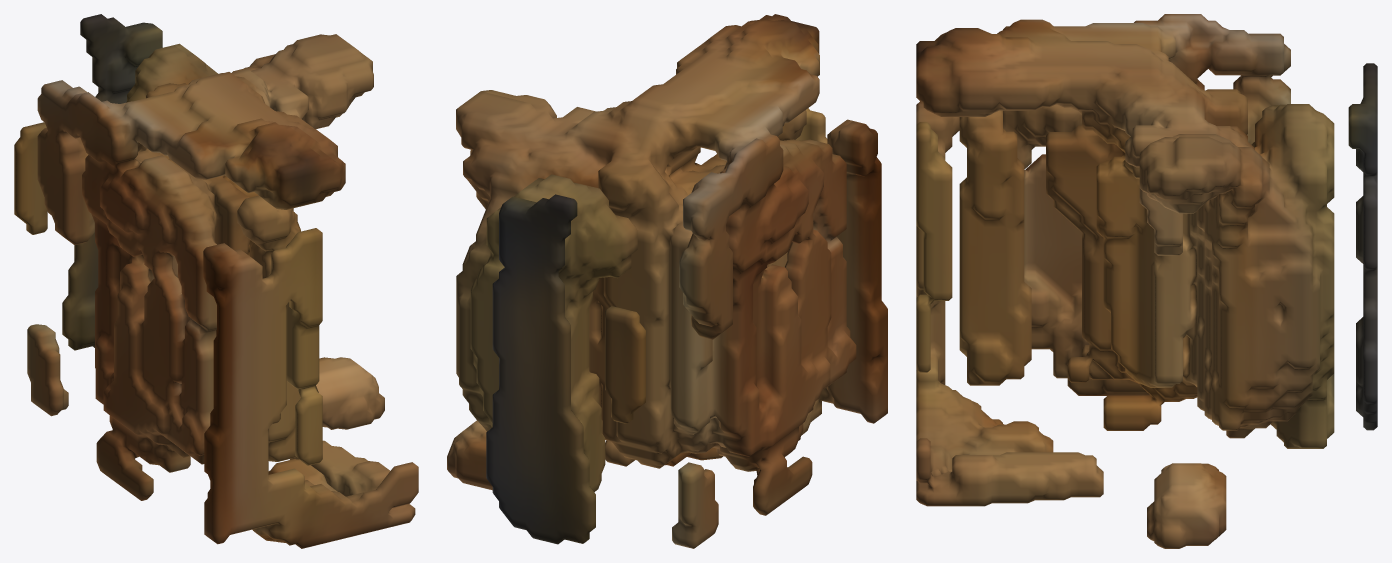
The model's file is A curved two seater wooden seats which can be used.glb.
3 renders of one model, left to right at view 1: azimuth 30°, elevation 25°; view 2: azimuth 150°, elevation 25°; view 3: azimuth 270°, elevation 25°, orthographic. The views are drawn at different scales.
Parts seen in each view (by area): view 1: A curved two seater wooden seats which can be used; view 2: A curved two seater wooden seats which can be used; view 3: A curved two seater wooden seats which can be used.
Part boxes in pixels (x1,y1,x2,y2): A curved two seater wooden seats which can be used: (14, 14, 418, 548); A curved two seater wooden seats which can be used: (447, 14, 887, 548); A curved two seater wooden seats which can be used: (916, 14, 1377, 548).
Size of the model in its own units: 48 by 63 by 64.
